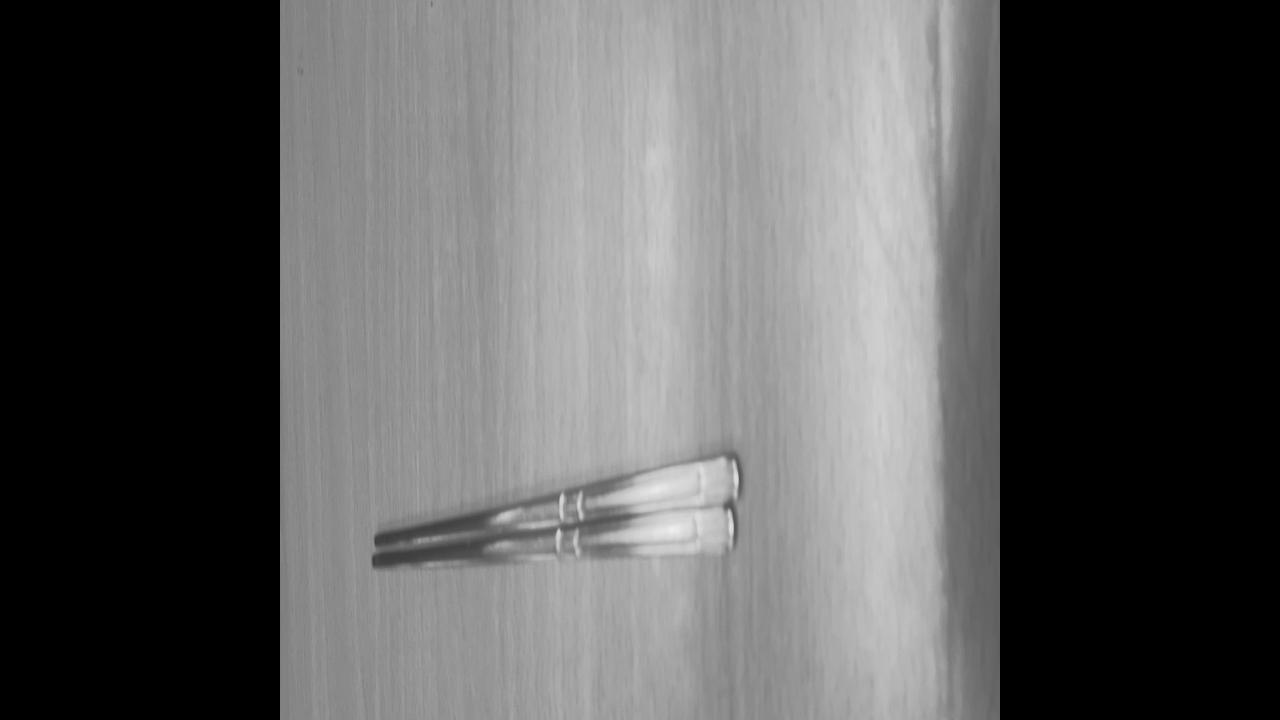chopstick: (372, 458, 737, 568)
